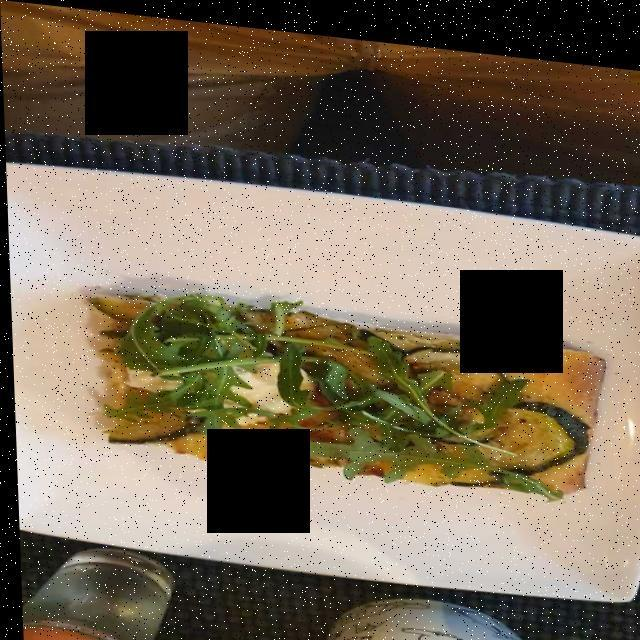pizza: (102, 294, 596, 484)
salad: (104, 292, 592, 483)
